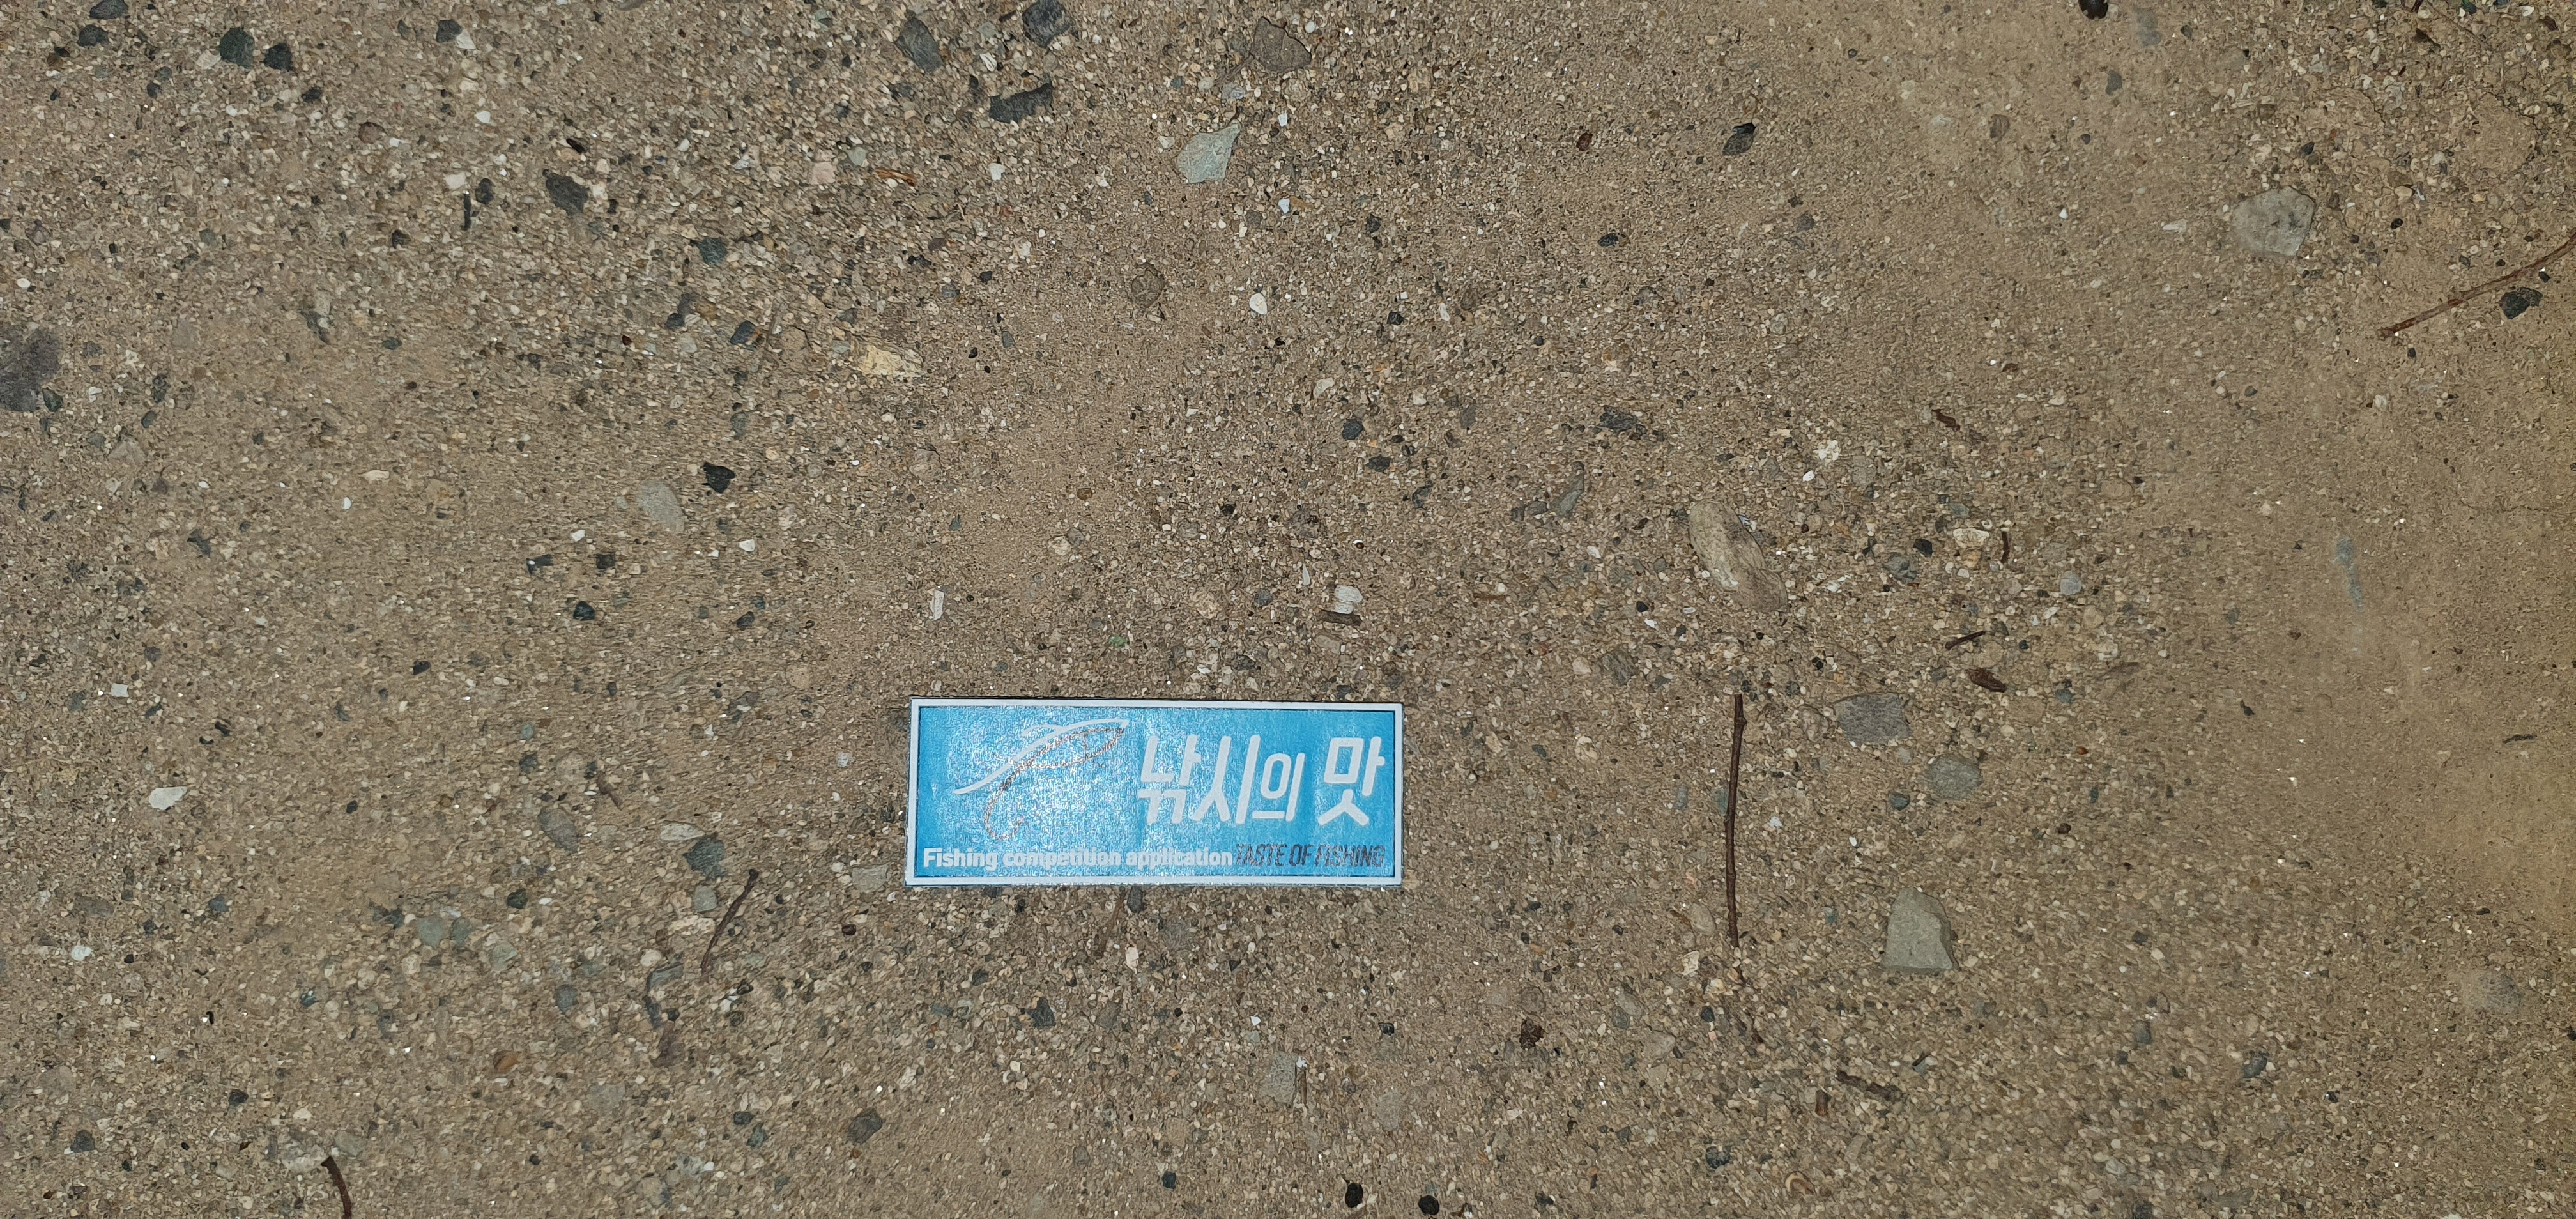tag: (904, 698, 1401, 884)
